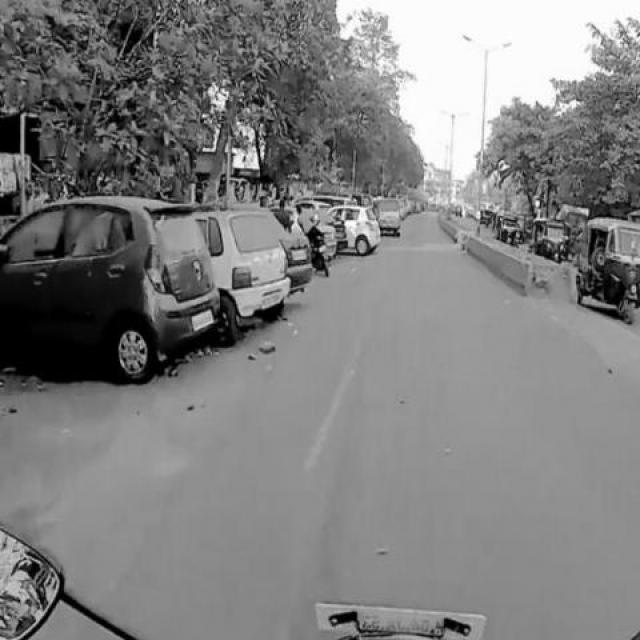Unmarked Bump: (381, 236, 458, 252)
